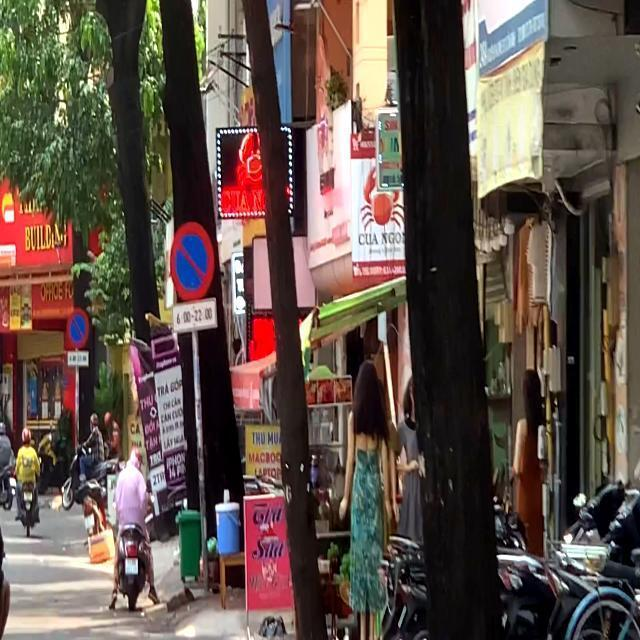131a-cam-do-xe: (167, 220, 214, 299), (64, 308, 92, 348)
